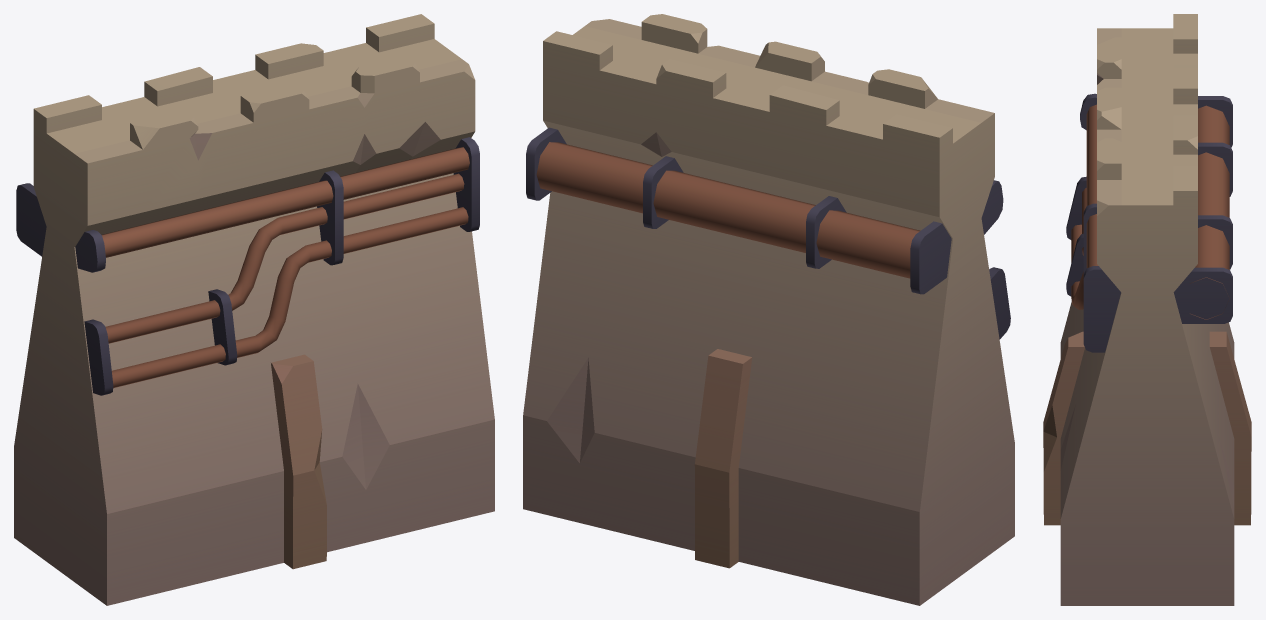
The model's file is WallSection_Medium_02.fbx.
3 views of the same model, side by side, from view 1: azimuth 30°, elevation 25°; view 2: azimuth 150°, elevation 25°; view 3: azimuth 270°, elevation 25° (orthographic). The views are drawn at different scales.
Visible parts, largest first — view 1: WallSection_Medium_02; view 2: WallSection_Medium_02; view 3: WallSection_Medium_02.
Boxes of the visible parts, bbox=[...] form: WallSection_Medium_02: bbox=[14, 14, 494, 605]; WallSection_Medium_02: bbox=[523, 14, 1014, 605]; WallSection_Medium_02: bbox=[1043, 14, 1251, 605].
Size of the model in its own units: 670 by 735 by 333.
